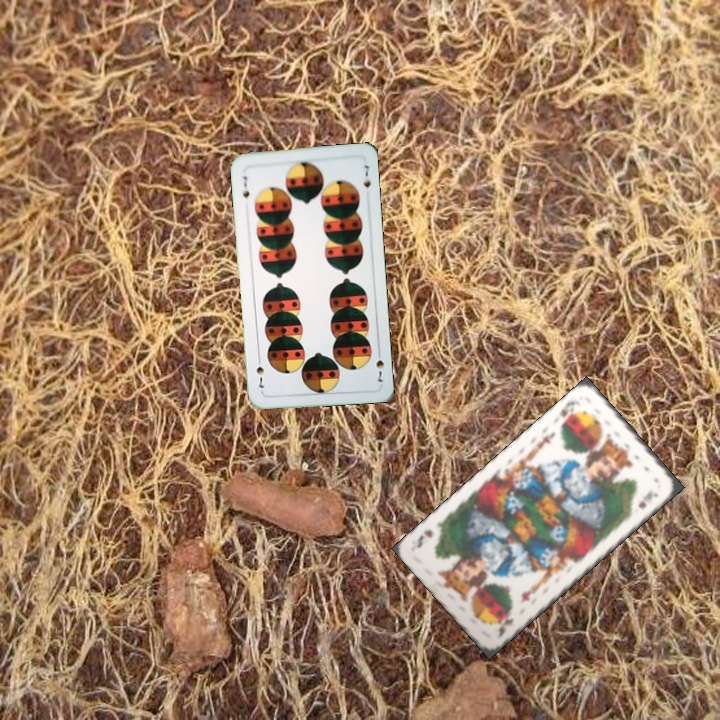S7: (372, 345, 386, 385), (239, 172, 252, 200)
SK: (556, 396, 583, 429), (493, 612, 516, 641)
